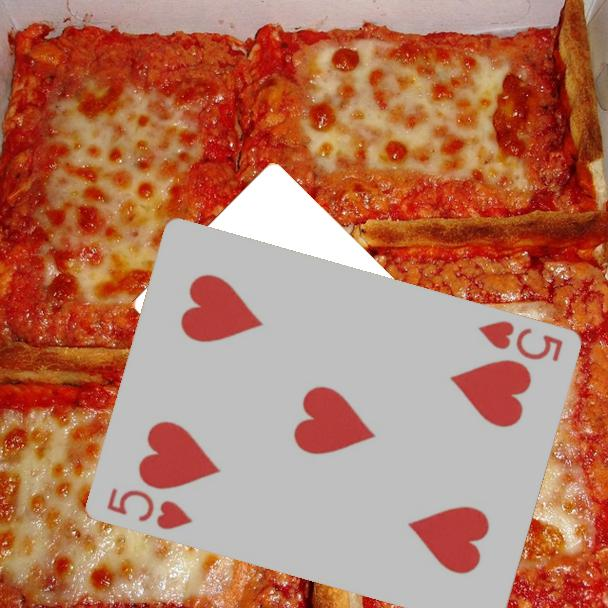h05: (102, 484, 195, 533), (474, 317, 566, 365)
